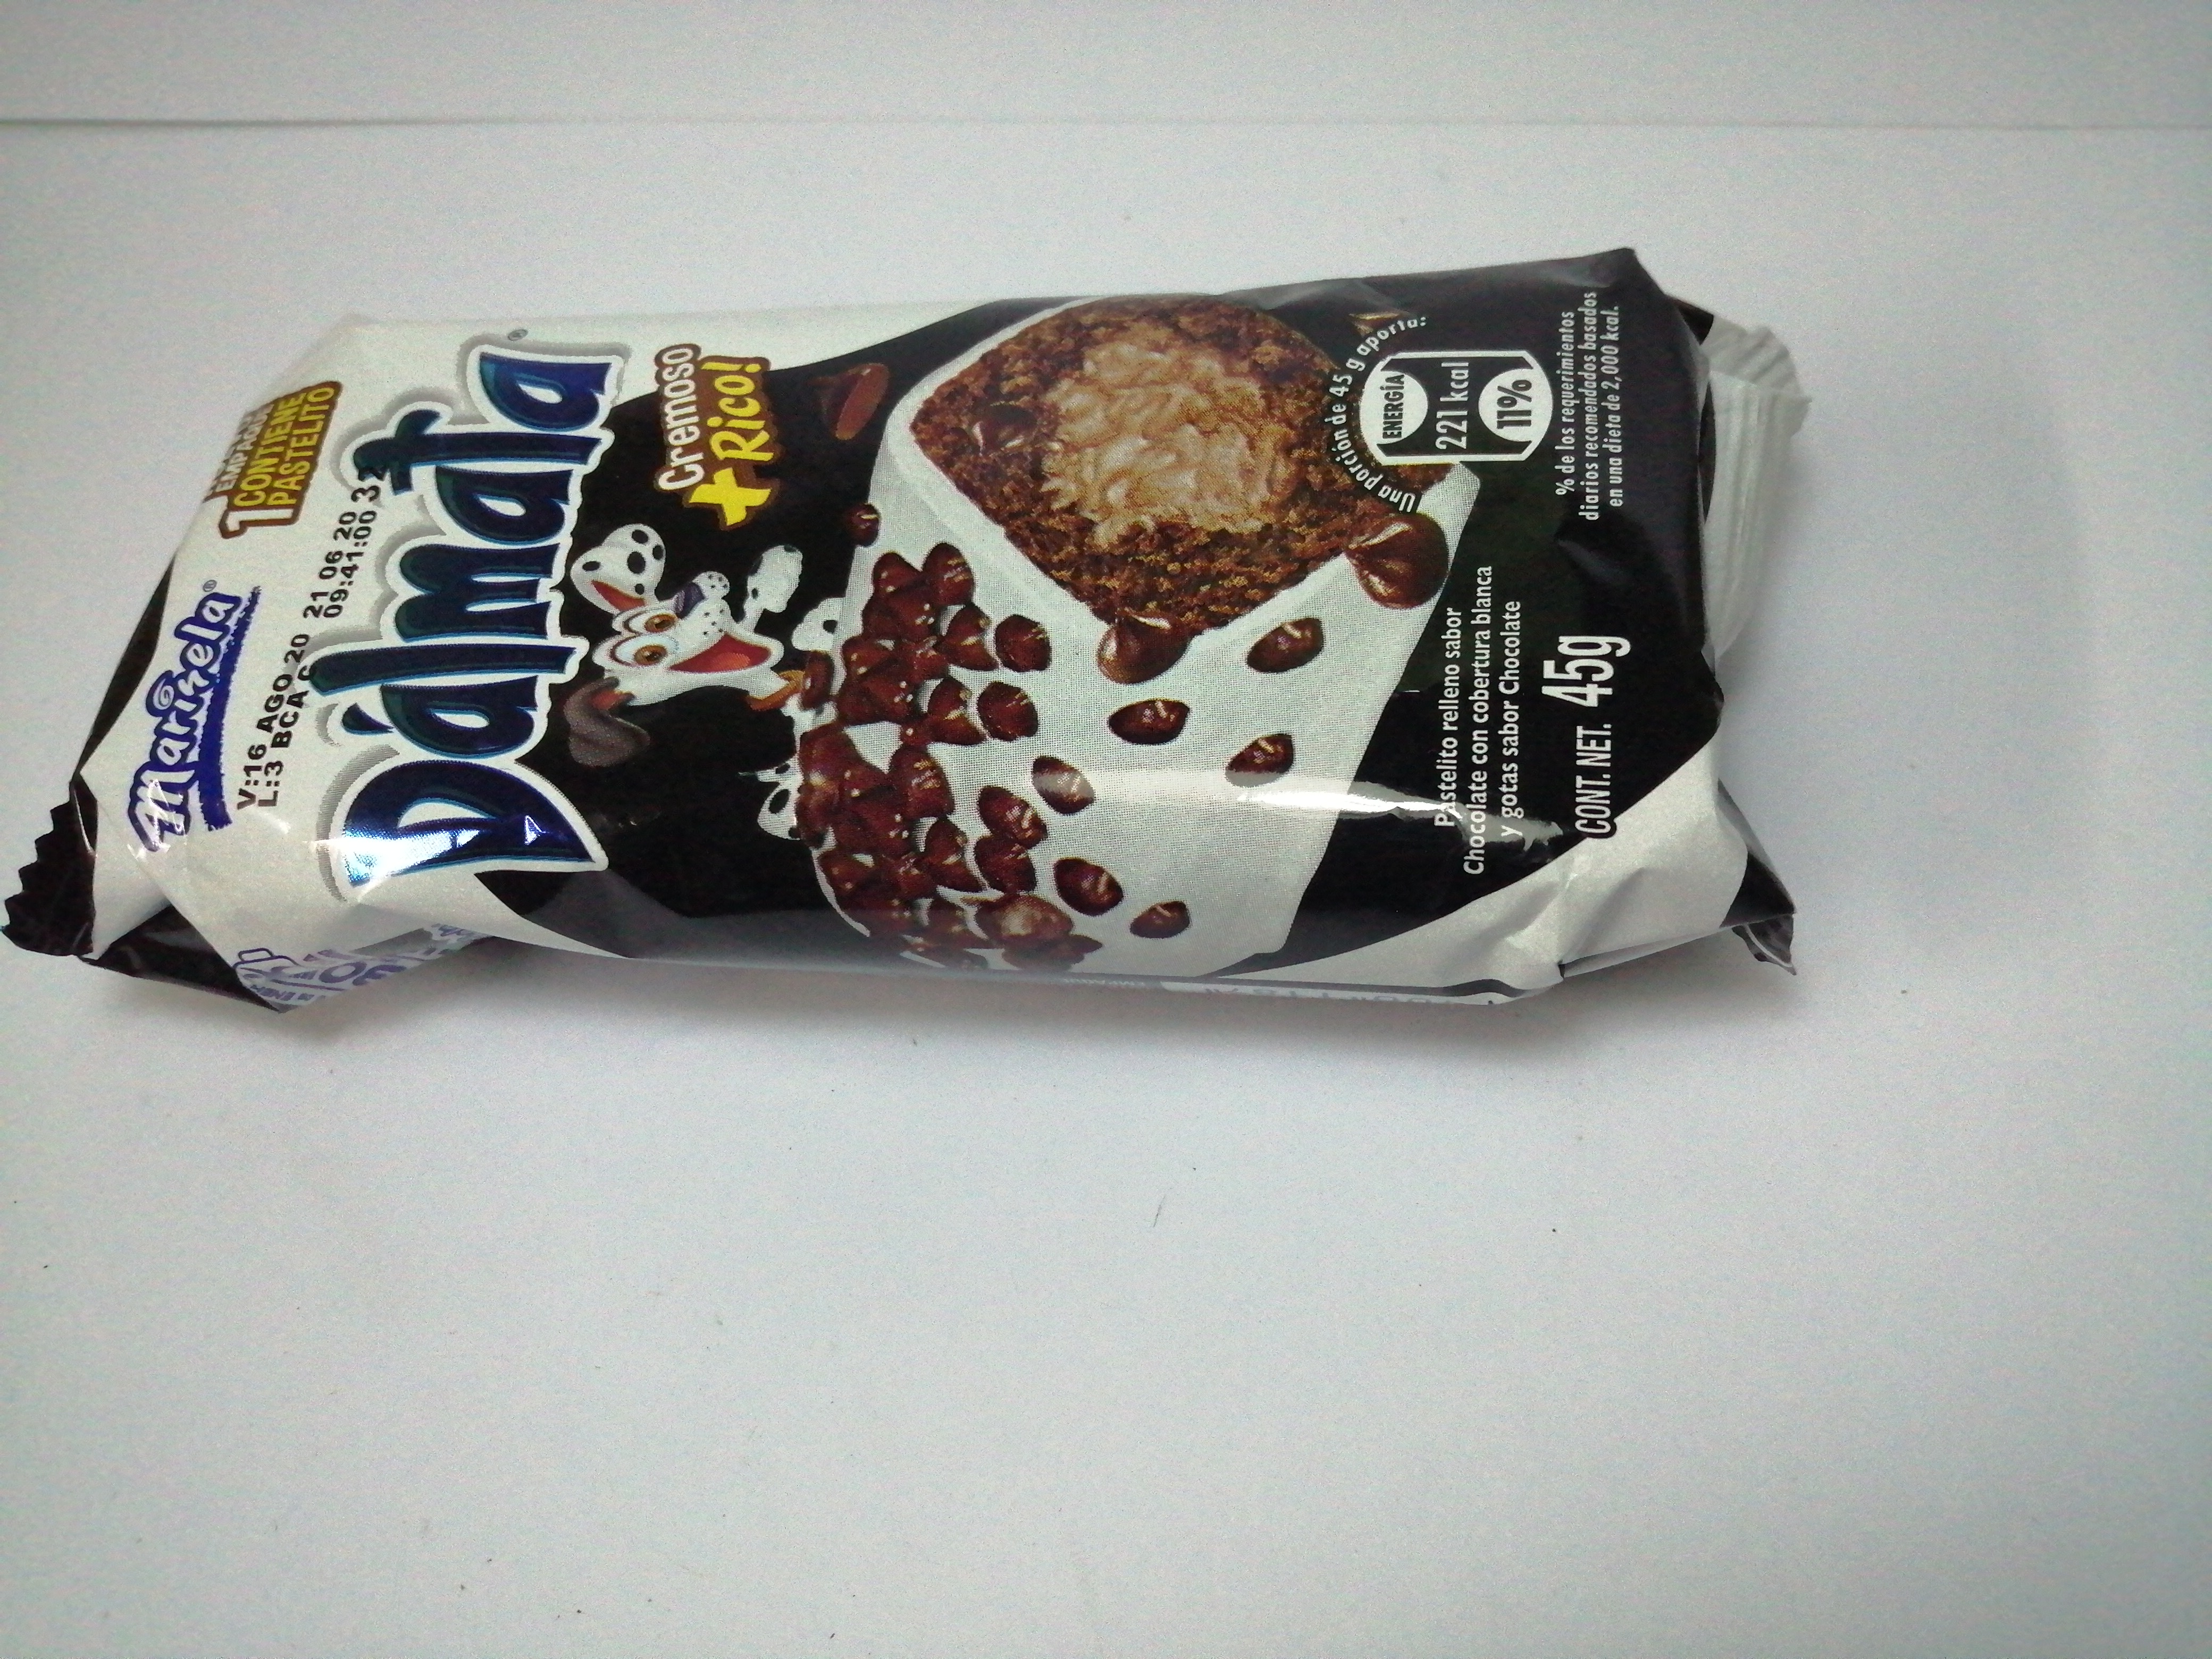dalmata: (9, 242, 1864, 1065)
